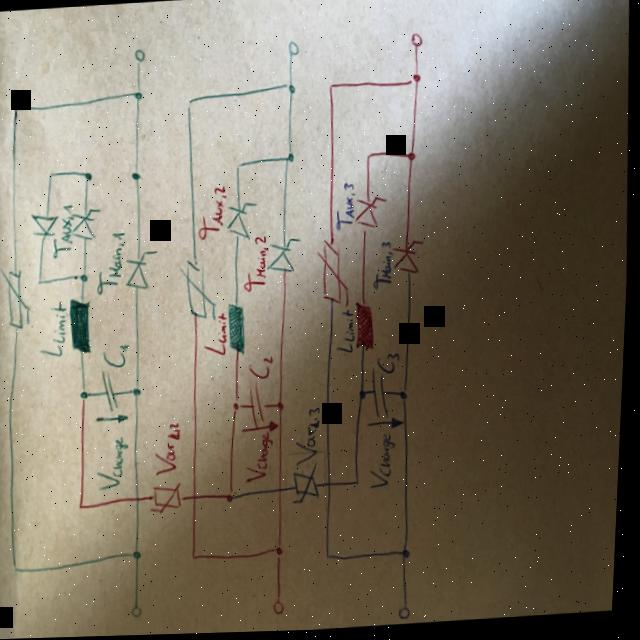capacitor: (371, 372, 393, 424), (100, 371, 123, 415), (248, 383, 270, 429)
crossover: (194, 495, 201, 504), (279, 488, 286, 497), (137, 497, 144, 505), (329, 483, 335, 490)
diode: (30, 213, 60, 239)
inductor: (69, 298, 94, 356), (354, 303, 378, 354), (227, 303, 249, 358)
junction: (233, 398, 244, 416), (402, 547, 414, 563), (408, 75, 421, 89), (80, 388, 92, 403), (276, 545, 287, 561), (228, 489, 239, 505), (131, 386, 144, 399), (284, 84, 294, 98), (360, 389, 369, 403), (184, 99, 192, 114), (133, 552, 145, 562), (284, 153, 294, 165), (132, 91, 142, 103), (401, 392, 410, 404), (406, 154, 416, 164), (15, 561, 22, 575), (84, 172, 92, 184), (193, 553, 202, 563), (234, 163, 243, 173), (80, 274, 89, 284), (278, 404, 286, 414), (47, 171, 54, 181), (12, 104, 18, 115), (365, 154, 372, 163), (326, 84, 333, 93), (357, 480, 363, 490), (80, 503, 87, 511), (38, 277, 44, 286), (328, 555, 334, 562)
terminal: (284, 42, 300, 60), (401, 605, 415, 624), (276, 599, 289, 618), (132, 48, 145, 66), (408, 35, 422, 51), (133, 604, 147, 620)
text: (95, 232, 128, 298), (96, 436, 134, 493), (39, 301, 72, 360), (295, 408, 326, 470), (196, 187, 229, 243), (245, 432, 278, 486), (242, 237, 272, 295), (155, 422, 185, 479), (370, 436, 400, 493), (51, 205, 77, 261), (202, 313, 230, 359), (372, 243, 396, 295), (334, 185, 358, 234), (336, 311, 357, 357), (102, 343, 132, 371), (248, 356, 277, 383), (377, 354, 403, 377)
thyristor: (266, 236, 303, 278), (125, 250, 158, 294), (354, 195, 386, 237), (226, 203, 258, 243), (393, 241, 425, 279), (70, 209, 97, 243)
